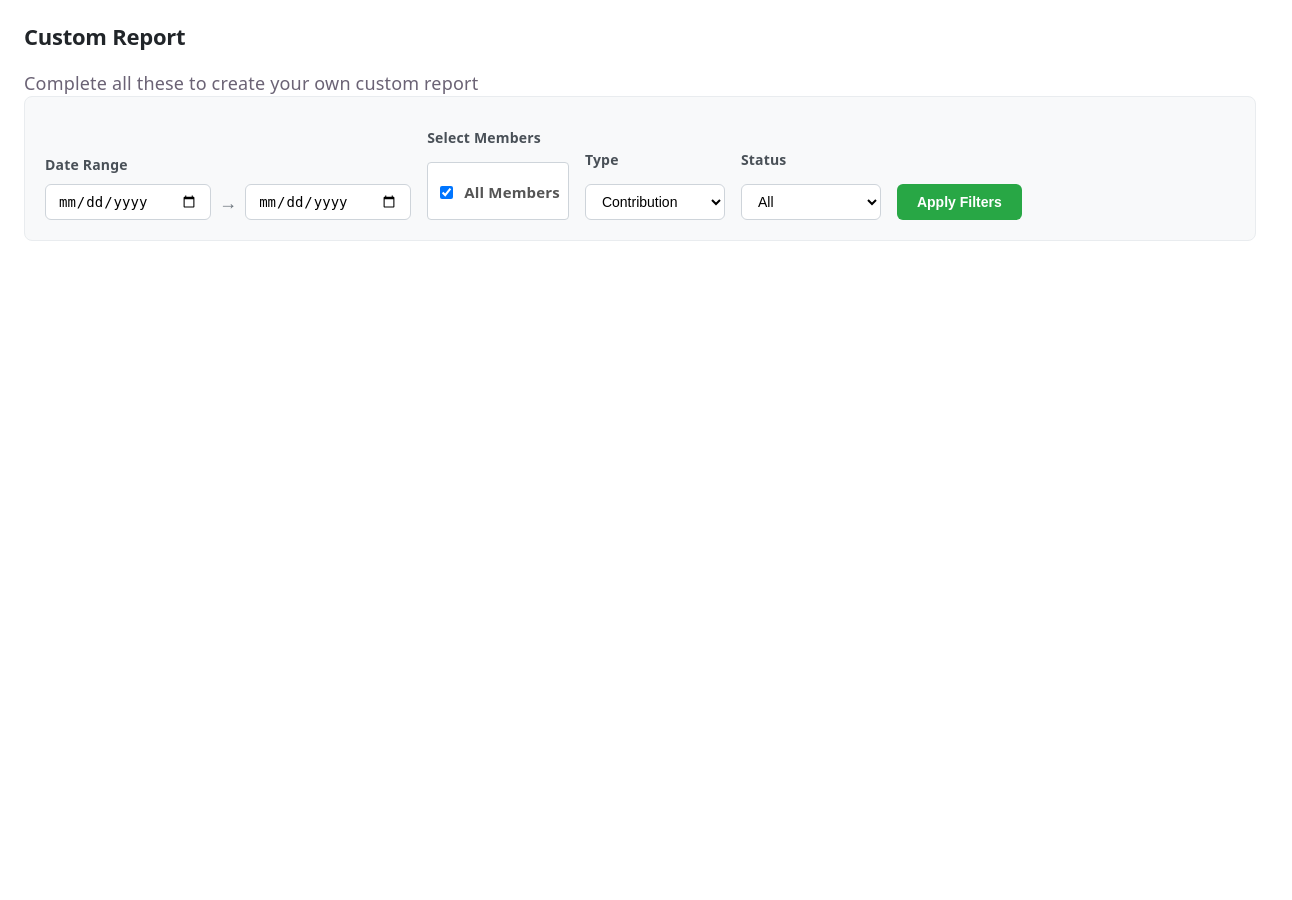
it: CustomView Page › renders export buttons after data loads
Type "2026-01-01" into the 1st date field. click: (128, 202)
box: [45,184,211,220]
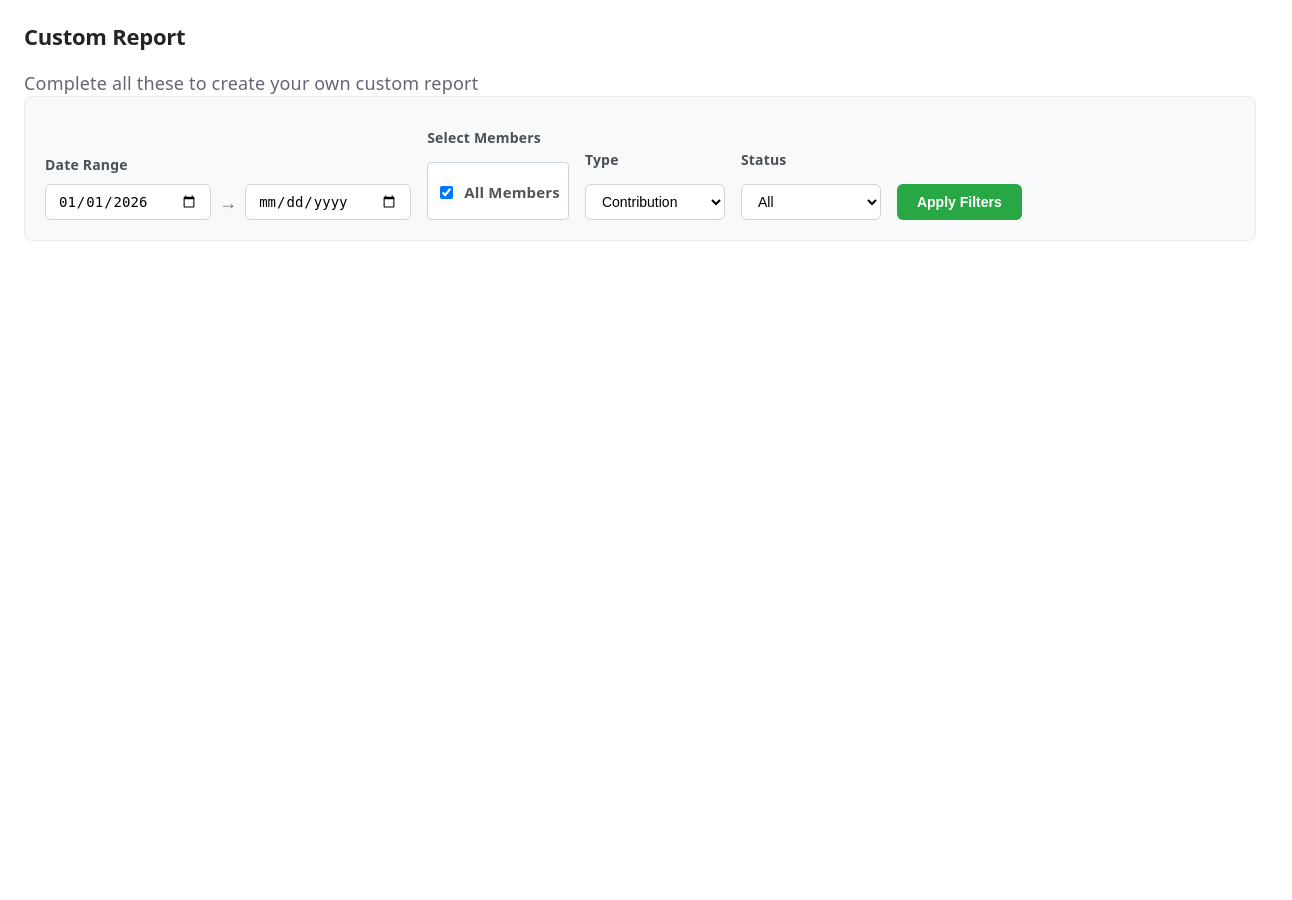
Type "2026-06-01" into the 2nd date field. click: (328, 202)
box: [245,184,411,220]
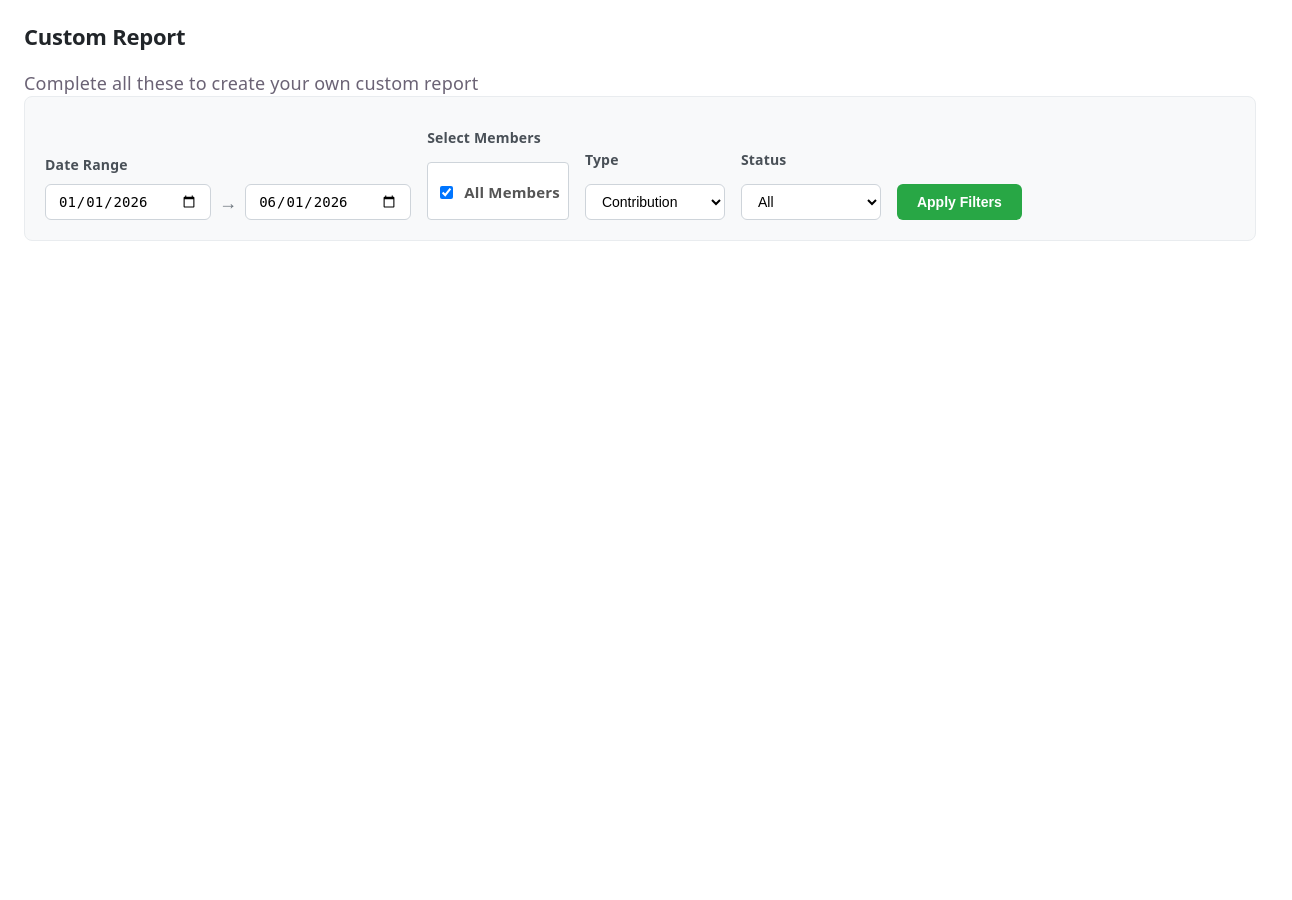
Click the button "Apply Filters". click: (959, 202)
box: [897,184,1022,220]
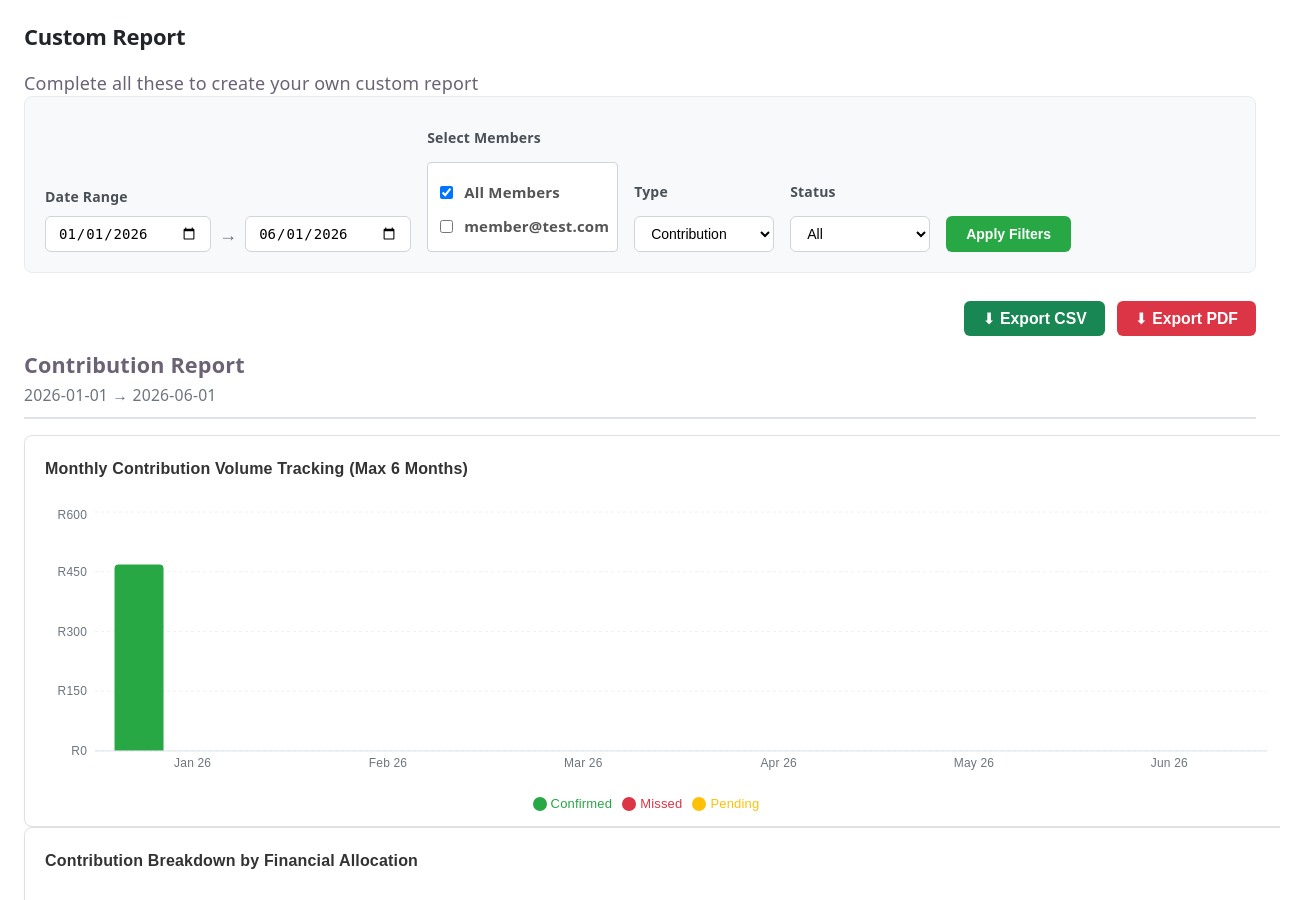
Expected: the button "⬇ Export CSV" is shown, [964,301,1105,336]
Expected: the button "⬇ Export PDF" is shown, [1117,301,1256,336]
